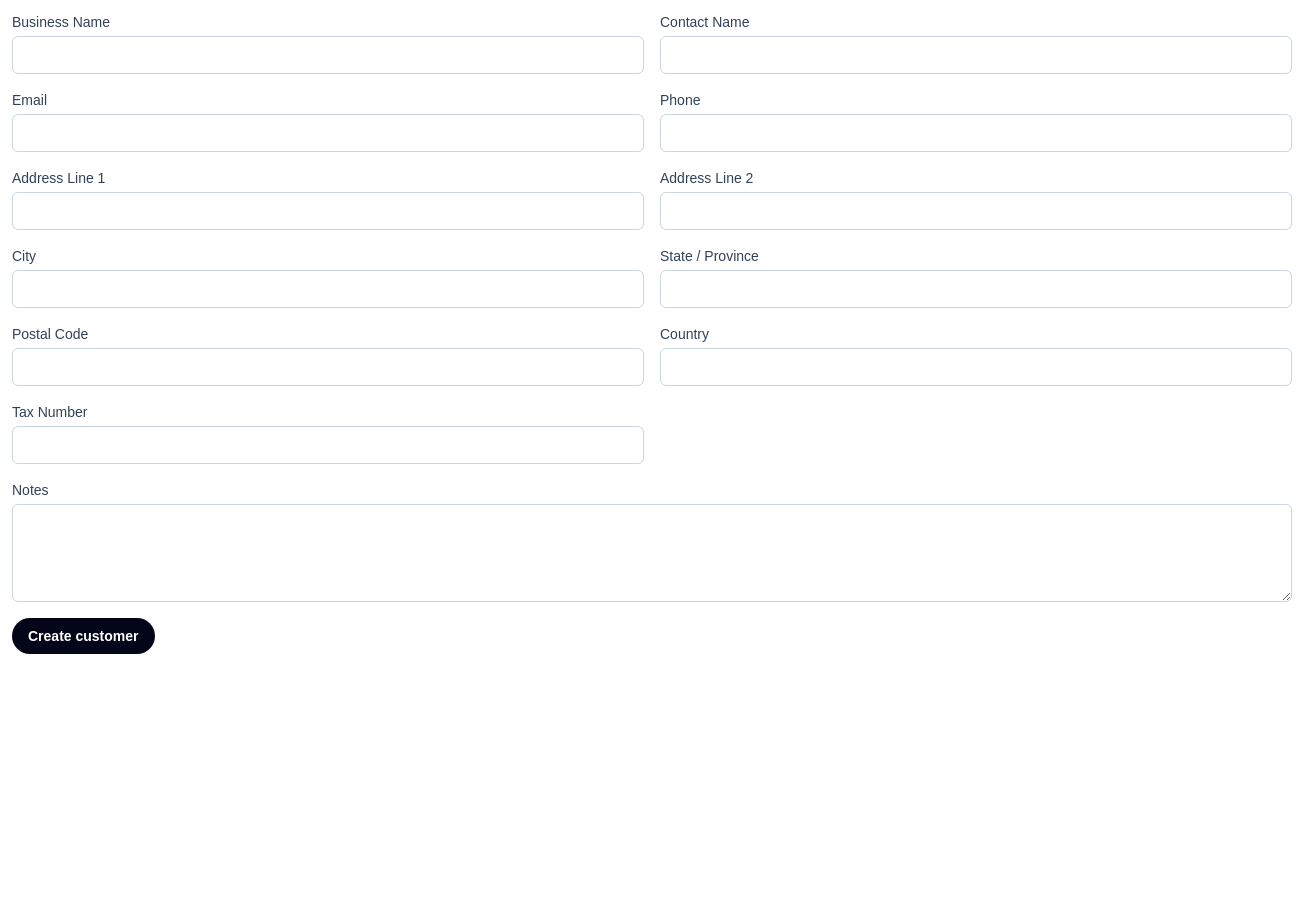
Test: CustomerForm › rejects submission when neither business name nor contact name is filled
The image size is (1304, 912).
Click the button "Create customer" at [83, 636], box [12,618,154,654]
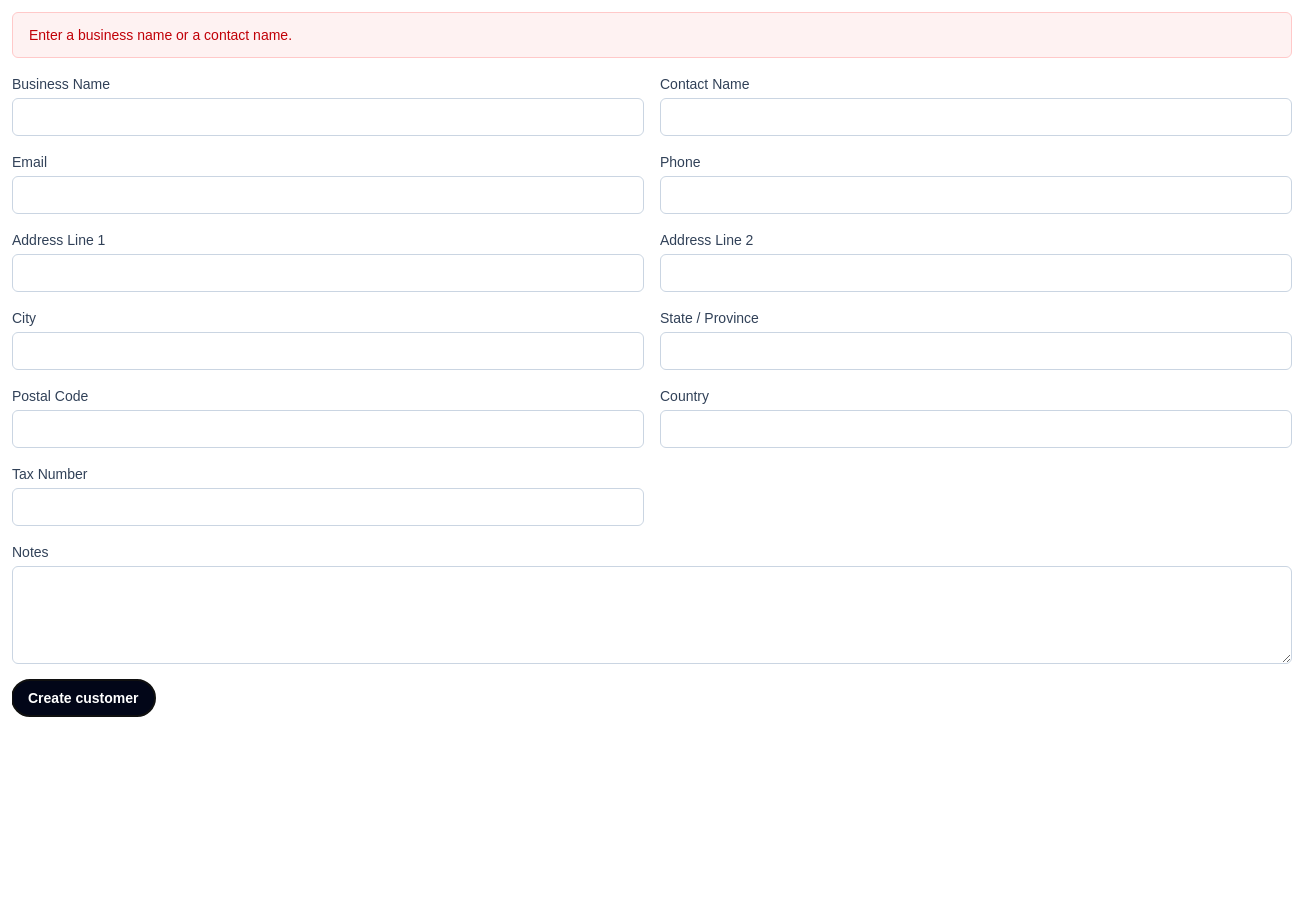
Expected: the message reads "Enter a business name or a contact name.", [29,27,292,43]
